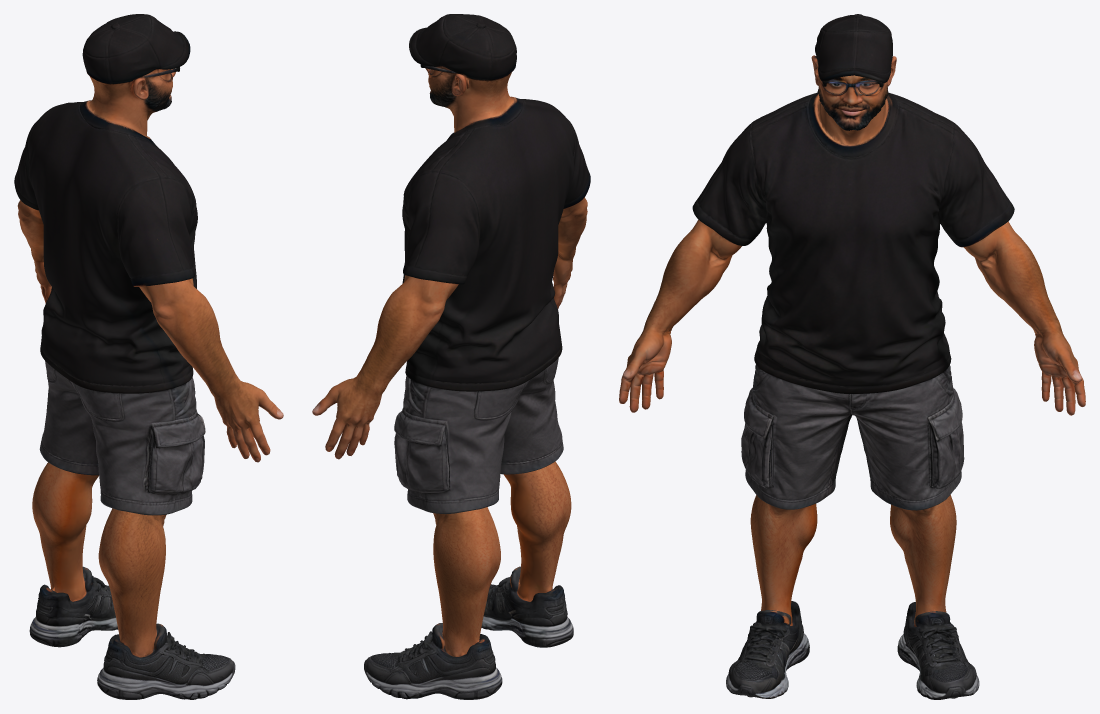
Rendered from body.glb.
3 views of the same model, side by side, from view 1: azimuth 30°, elevation 25°; view 2: azimuth 150°, elevation 25°; view 3: azimuth 270°, elevation 25° (orthographic). The views are drawn at different scales.
Parts seen in each view (by area): view 1: tripo_node_7ea82881-e750-48a7-95aa-a55da483d18f; view 2: tripo_node_7ea82881-e750-48a7-95aa-a55da483d18f; view 3: tripo_node_7ea82881-e750-48a7-95aa-a55da483d18f.
Part boxes in pixels (<box>): tripo_node_7ea82881-e750-48a7-95aa-a55da483d18f: <box>14,14,283,699</box>; tripo_node_7ea82881-e750-48a7-95aa-a55da483d18f: <box>312,14,590,699</box>; tripo_node_7ea82881-e750-48a7-95aa-a55da483d18f: <box>619,14,1085,699</box>.
Bounding box in the file's own units: 0.2056 × 0.9794 × 0.6262.
1 material, 1 textured.
